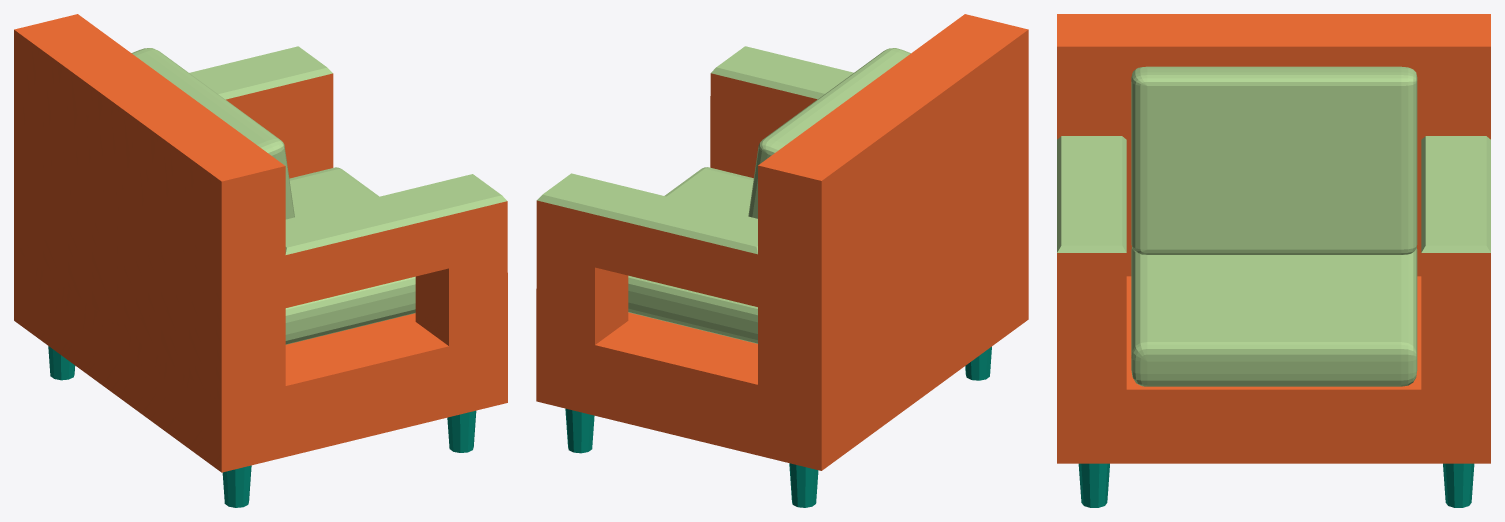
Rendered from Sillón Pintado.FBX.
3 views of the same model, side by side, from view 1: azimuth 30°, elevation 25°; view 2: azimuth 150°, elevation 25°; view 3: azimuth 270°, elevation 25° (orthographic). The views are drawn at different scales.
Visible parts, largest first — view 1: Box001, Box002, Box003, Cylinder001; view 2: Box001, Box002, Box003, Cylinder001; view 3: Box001, Box003, Box002, Cylinder001.
Boxes of the visible parts, x1,y1,x2,y2 form: Box001: [14, 14, 507, 472]; Box002: [285, 167, 415, 344]; Box003: [131, 48, 294, 219]; Cylinder001: [48, 346, 476, 507]; Box001: [536, 14, 1028, 470]; Box002: [628, 167, 757, 343]; Box003: [748, 48, 910, 218]; Cylinder001: [565, 346, 991, 507]; Box001: [1057, 14, 1490, 463]; Box003: [1131, 66, 1417, 254]; Box002: [1131, 247, 1417, 386]; Cylinder001: [1078, 463, 1474, 507].
Bounding box in the file's own units: 96.48 × 109 × 120.
